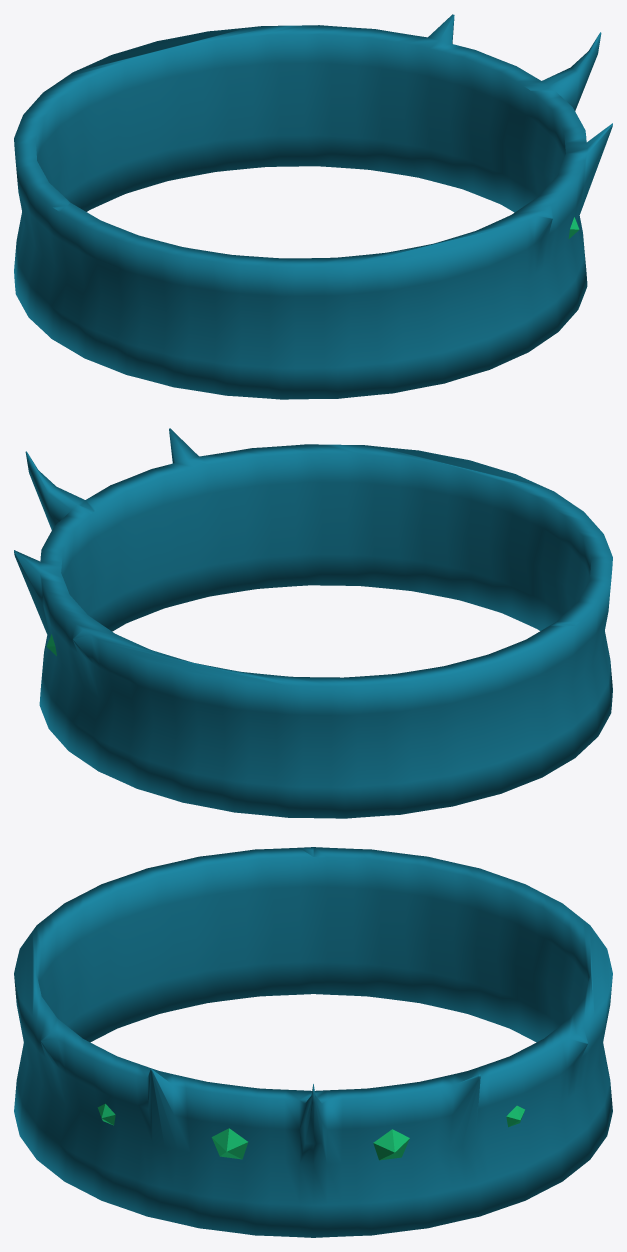
The model's file is crown.obj.
3 views of the same model, one above another, from view 1: azimuth 30°, elevation 25°; view 2: azimuth 150°, elevation 25°; view 3: azimuth 270°, elevation 25° (orthographic). The views are drawn at different scales.
Parts seen in each view (by area): view 1: Crown_Crown_0; view 2: Crown_Crown_0; view 3: Crown_Crown_0.
Part boxes in pixels (box(x1,y1,x2,y2)): Crown_Crown_0: box(14, 14, 612, 399); Crown_Crown_0: box(14, 428, 612, 818); Crown_Crown_0: box(14, 847, 612, 1237).
Bounding box in the file's own units: 50 × 15.04 × 45.28.
